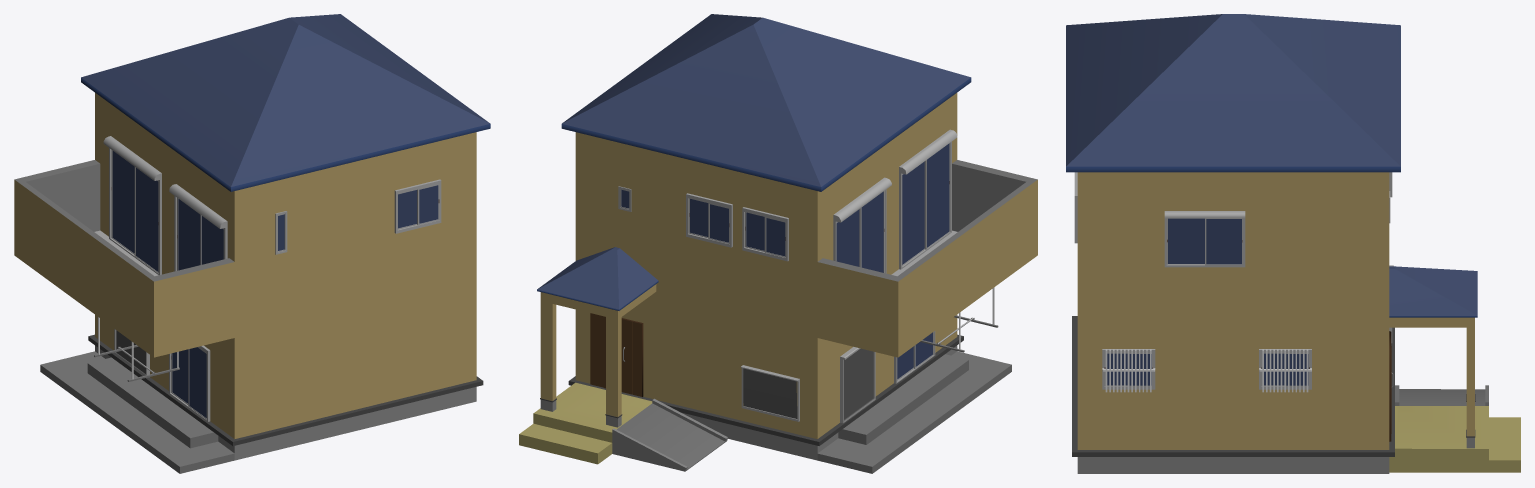
The model's file is house15_middle.fbx.
The picture shows the model from 3 angles, left to right: view 1: azimuth 30°, elevation 25°; view 2: azimuth 150°, elevation 25°; view 3: azimuth 270°, elevation 25°; orthographic projection. The views are drawn at different scales.
Visible parts, largest first — view 1: house016; view 2: house016; view 3: house016.
Part boxes in pixels (box(x1,y1,x2,y2)): house016: box(14, 14, 490, 473); house016: box(519, 14, 1037, 473); house016: box(1066, 14, 1520, 473).
Bounding box in the file's own units: 801 × 824 × 853.
